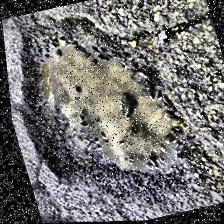pothole: (0, 0, 204, 212)
